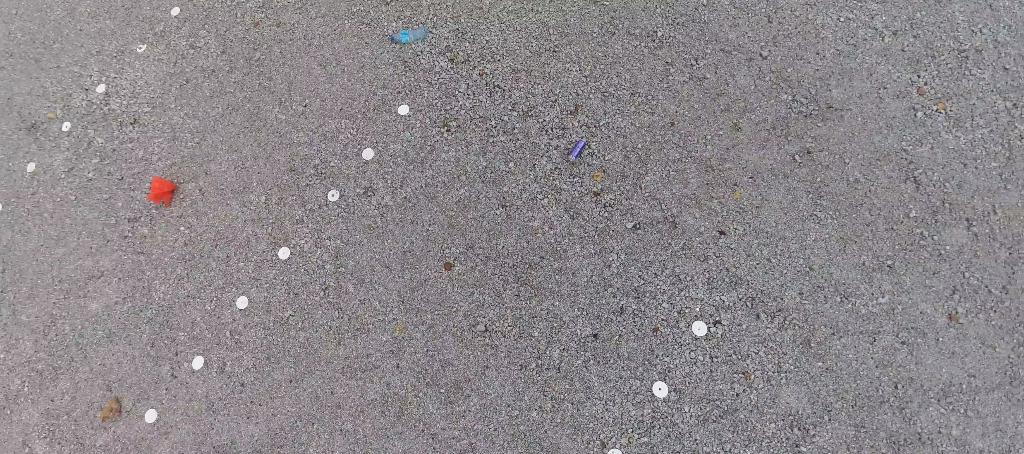garbage: (146, 174, 178, 210), (390, 25, 429, 44)
